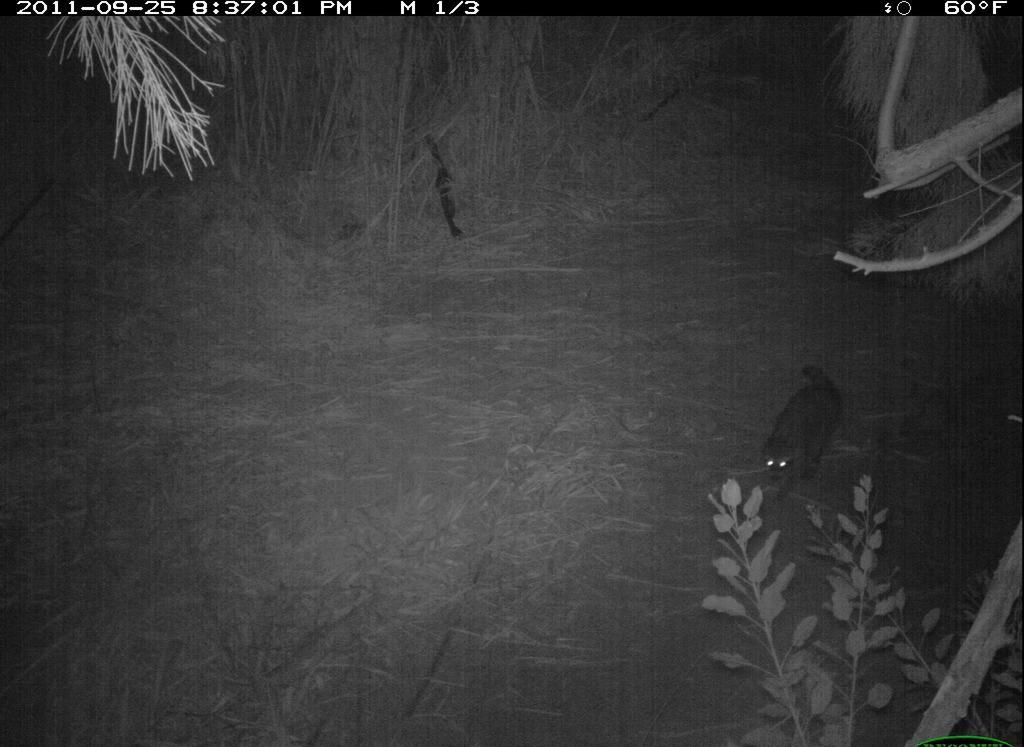raccoon: (747, 354, 853, 505)
